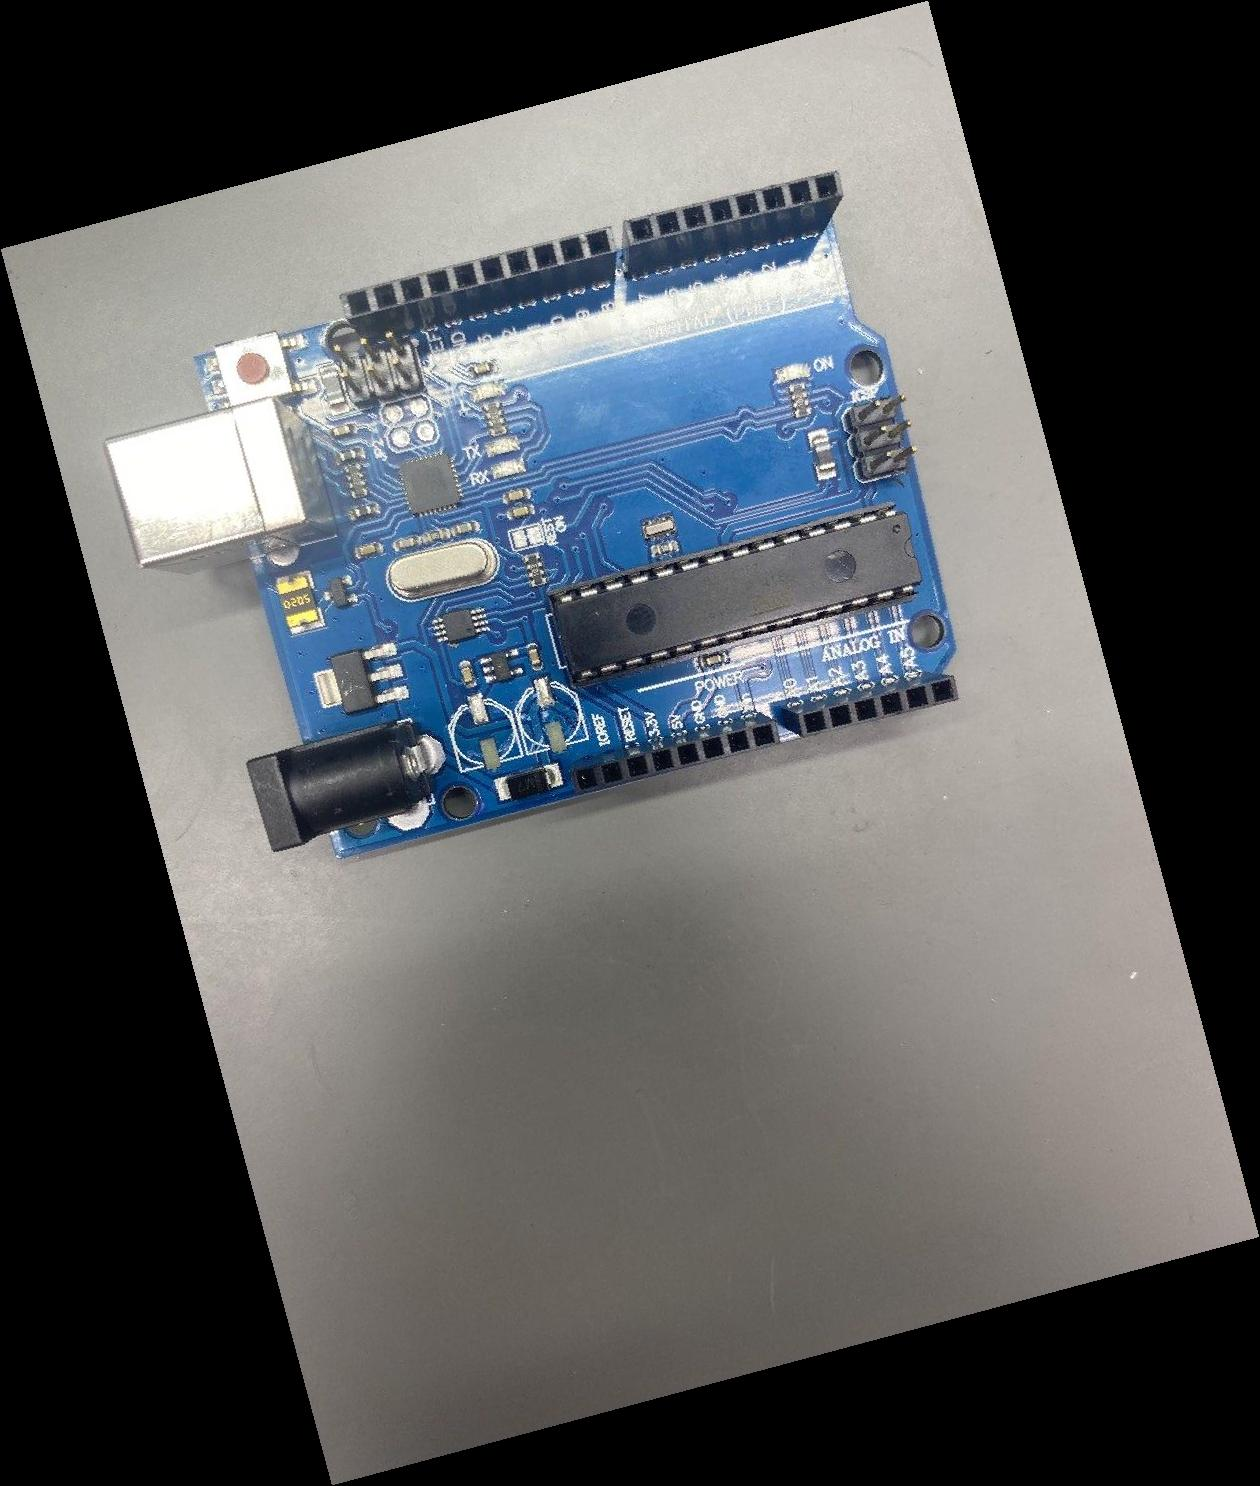ATmega328 chip: (546, 501, 922, 689)
Arduino board: (102, 170, 960, 860)
USB: (102, 396, 337, 574)
pins: (340, 226, 617, 345), (621, 170, 844, 277), (570, 712, 781, 794), (781, 671, 959, 737)
resistor: (481, 400, 509, 437), (787, 382, 812, 417), (345, 462, 369, 499), (524, 552, 547, 587)
